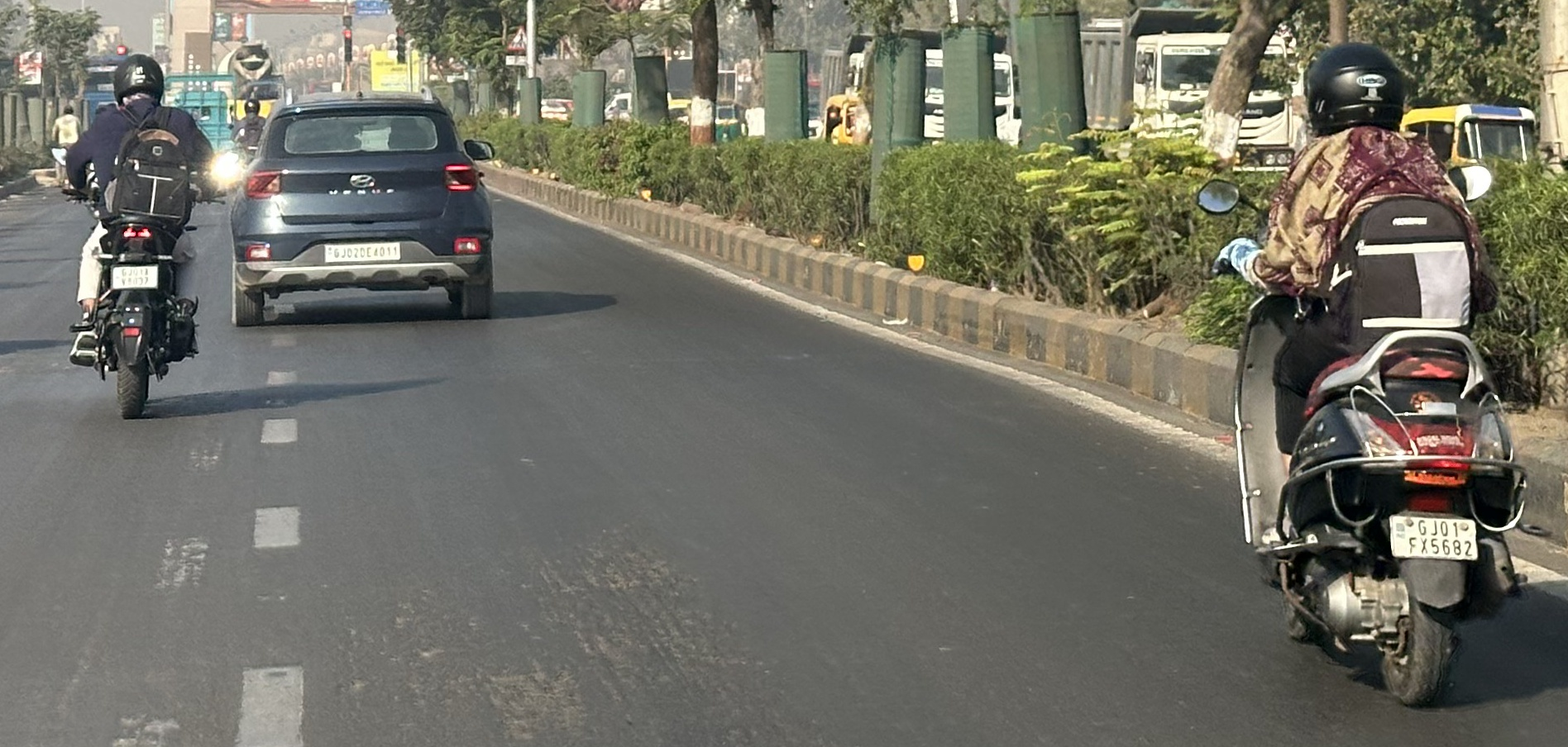BikeWithRider: (1178, 21, 1542, 719), (35, 44, 256, 419)
Helmet: (1280, 21, 1434, 159), (94, 44, 184, 113)
